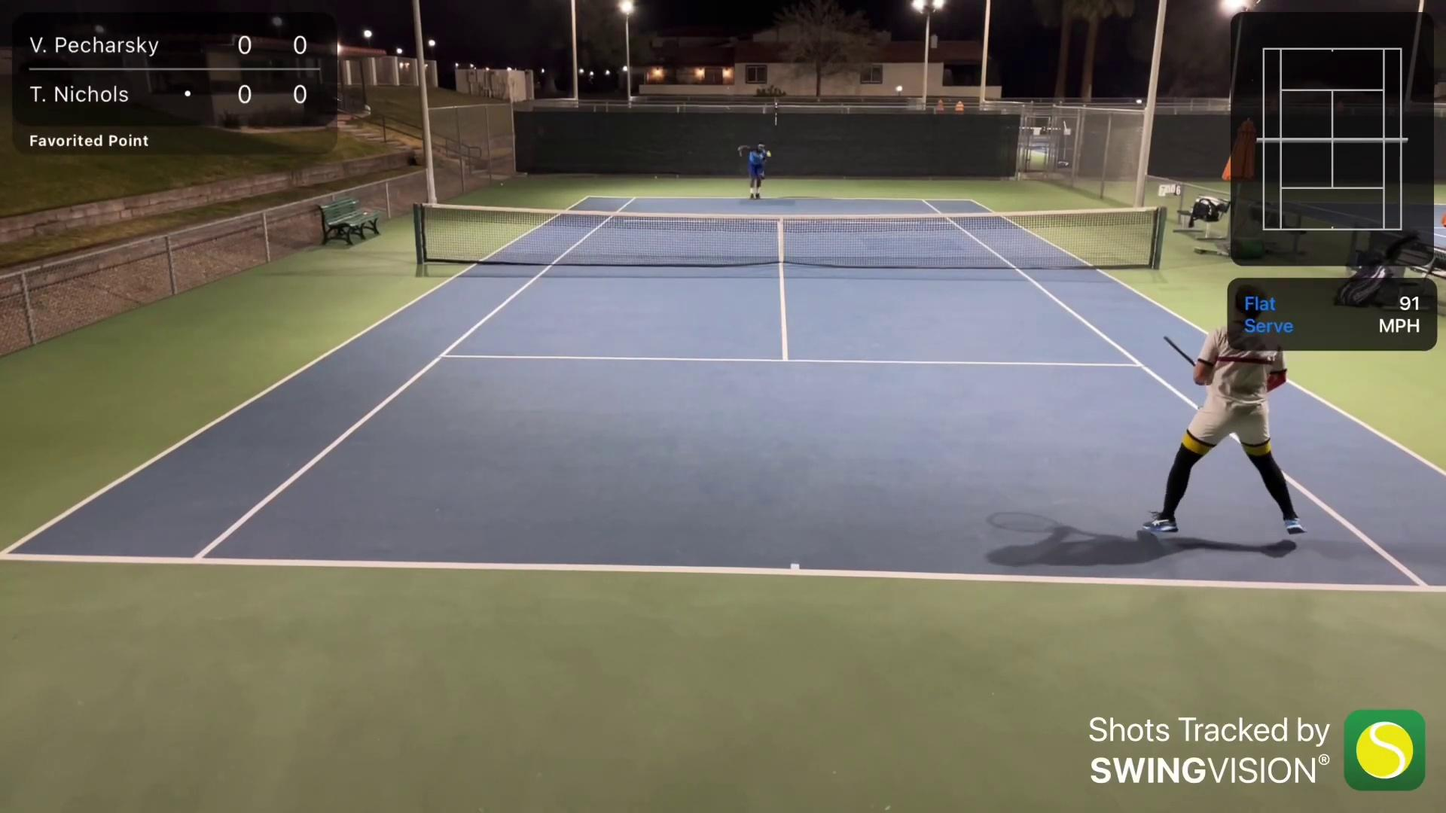ball: (766, 152, 772, 159)
